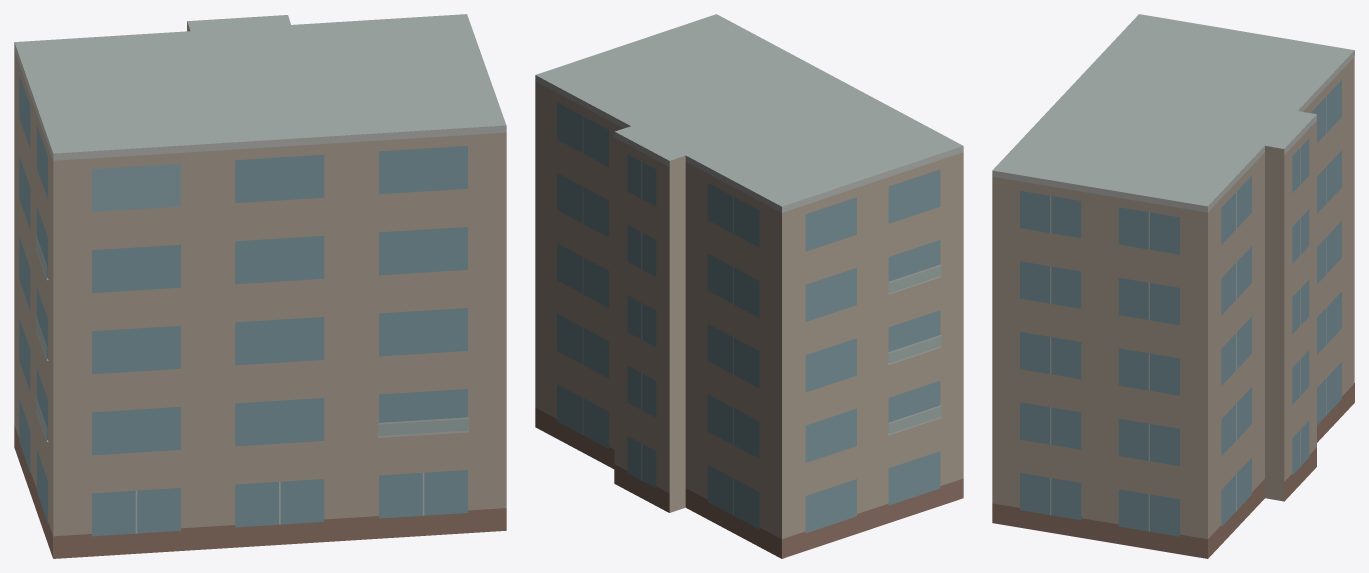
File: survey-upis-32993828.glb
3 renders of one model, left to right at view 1: azimuth 30°, elevation 25°; view 2: azimuth 150°, elevation 25°; view 3: azimuth 270°, elevation 25°, orthographic. The views are drawn at different scales.
Parts seen in each view (by area): view 1: survey-upis-32993828.tmp; view 2: survey-upis-32993828.tmp; view 3: survey-upis-32993828.tmp.
Boxes of the visible parts, x1,y1,x2,y2 form: survey-upis-32993828.tmp: (14,14,506,558); survey-upis-32993828.tmp: (535,14,963,558); survey-upis-32993828.tmp: (992,14,1354,558).
Bounding box in the file's own units: 16.17 × 13.8 × 12.88.
